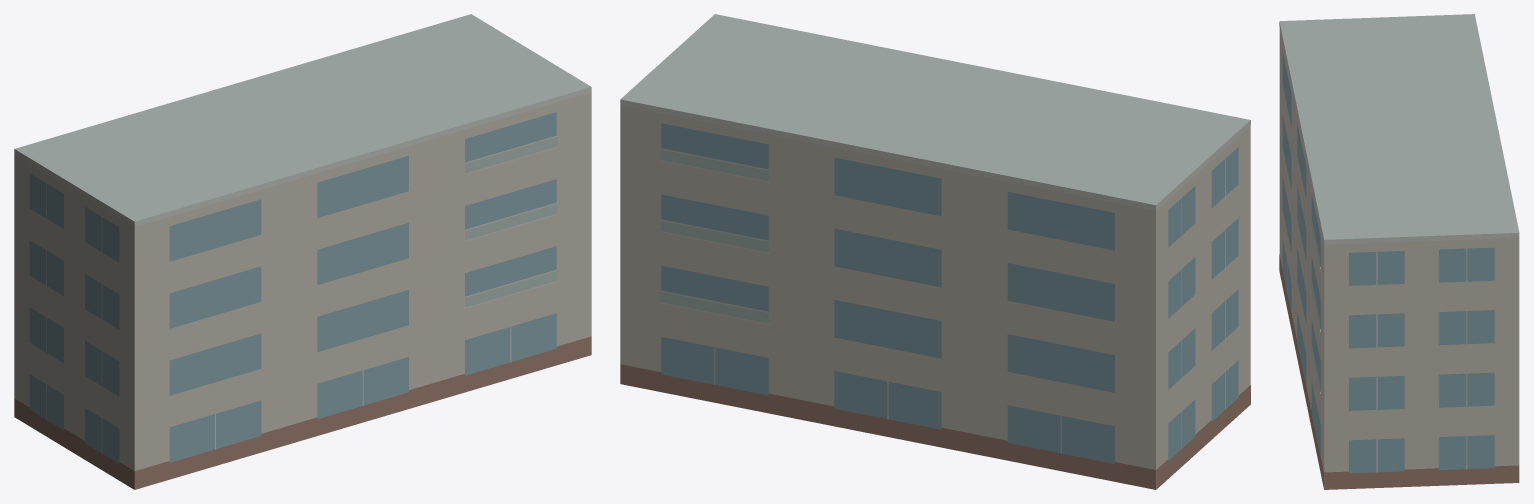
Rendered from survey-upis-32912321.glb.
The picture shows the model from 3 angles, left to right: view 1: azimuth 30°, elevation 25°; view 2: azimuth 150°, elevation 25°; view 3: azimuth 270°, elevation 25°; orthographic projection. The views are drawn at different scales.
Parts seen in each view (by area): view 1: survey-upis-32912321.tmp; view 2: survey-upis-32912321.tmp; view 3: survey-upis-32912321.tmp.
Boxes of the visible parts, bbox=[...] form: survey-upis-32912321.tmp: bbox=[14, 14, 591, 489]; survey-upis-32912321.tmp: bbox=[620, 14, 1250, 489]; survey-upis-32912321.tmp: bbox=[1279, 14, 1519, 489].
Size of the model in its own units: 23.84 by 12.3 by 10.71.
